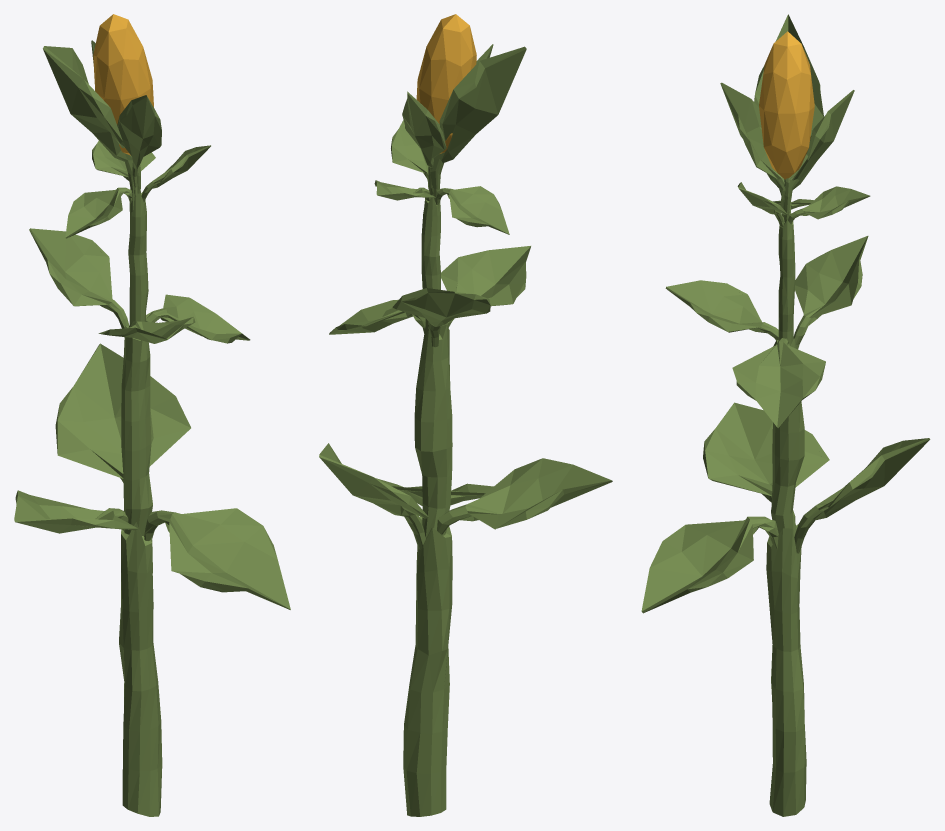
The model's file is C_Milho.fbx.
3 renders of one model, left to right at view 1: azimuth 30°, elevation 25°; view 2: azimuth 150°, elevation 25°; view 3: azimuth 270°, elevation 25°, orthographic. The views are drawn at different scales.
Visible parts, largest first — view 1: Cube.005; view 2: Cube.005; view 3: Cube.005.
Part boxes in pixels (x1,y1,x2,y2): Cube.005: (14, 14, 290, 816); Cube.005: (319, 14, 612, 816); Cube.005: (641, 14, 930, 816).
Bounding box in the file's own units: 109 × 326 × 112.
